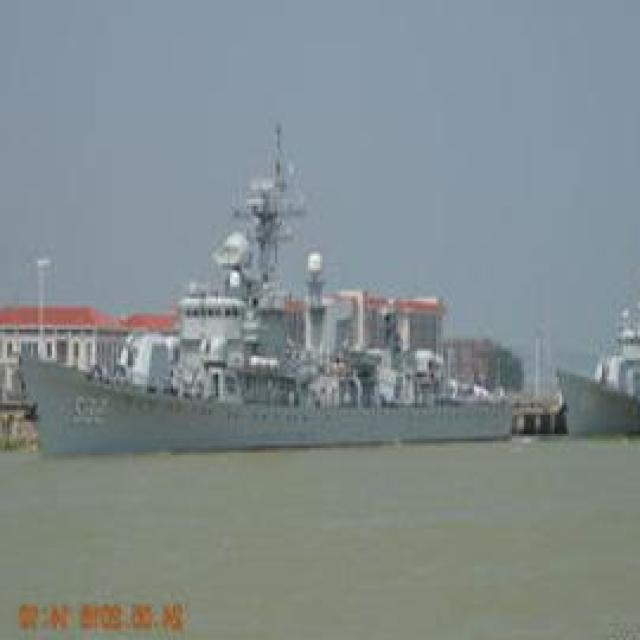navalvessels: (12, 160, 516, 466)
